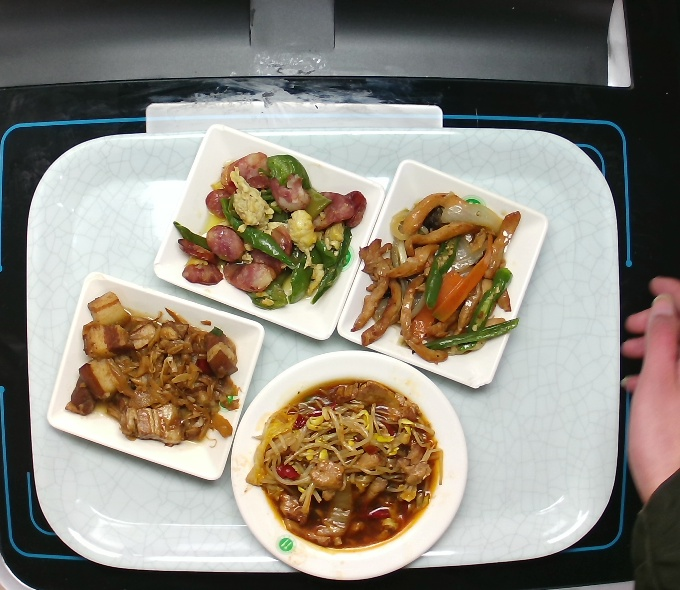wcq-HongShaoRou: (60, 288, 246, 451)
wcq-QingJiaoChaoDaChang: (170, 146, 368, 315)
wcq-QingJiaoRouSi: (348, 188, 527, 367)
wcq-ShuiZhuRouPian: (240, 372, 447, 554)
